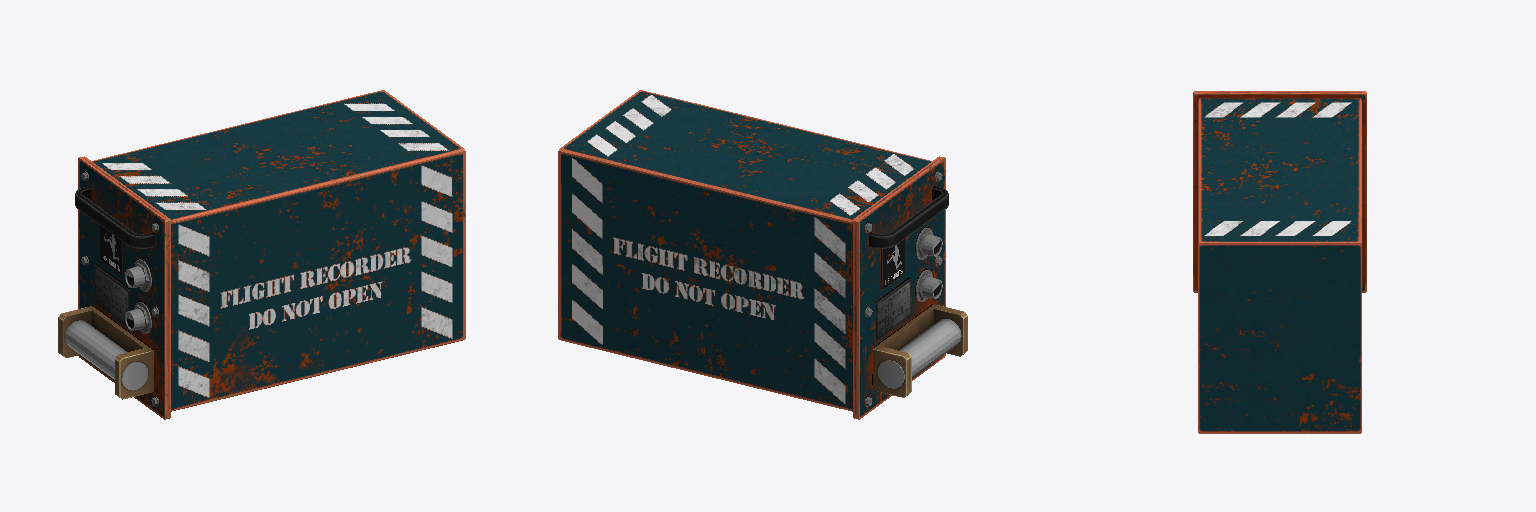
The picture shows the model from 3 angles: view 1: azimuth 30°, elevation 25°; view 2: azimuth 150°, elevation 25°; view 3: azimuth 270°, elevation 25°; orthographic projection.
Parts seen in each view (by area): view 1: m1; view 2: m1; view 3: m1.
Boxes of the visible parts, x1=… form: m1: x1=58, y1=90, x2=465, y2=419; m1: x1=558, y1=90, x2=967, y2=419; m1: x1=1193, y1=91, x2=1366, y2=433.
Size of the model in its own units: 590 by 334 by 264.
Materials: 1 (1 with a texture image).